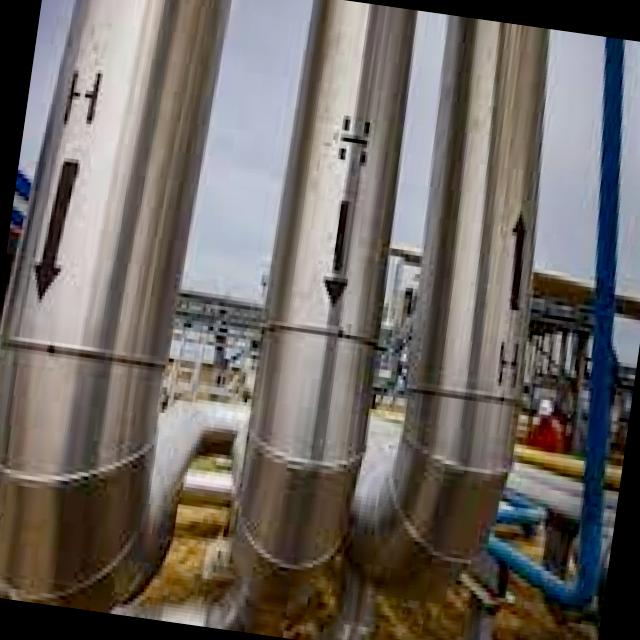gas: (0, 0, 230, 613), (351, 16, 549, 599), (237, 0, 416, 571), (134, 400, 248, 592), (363, 412, 401, 477)
